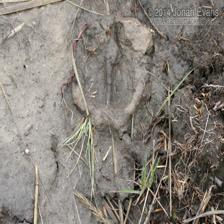wolf: (48, 7, 173, 191)
